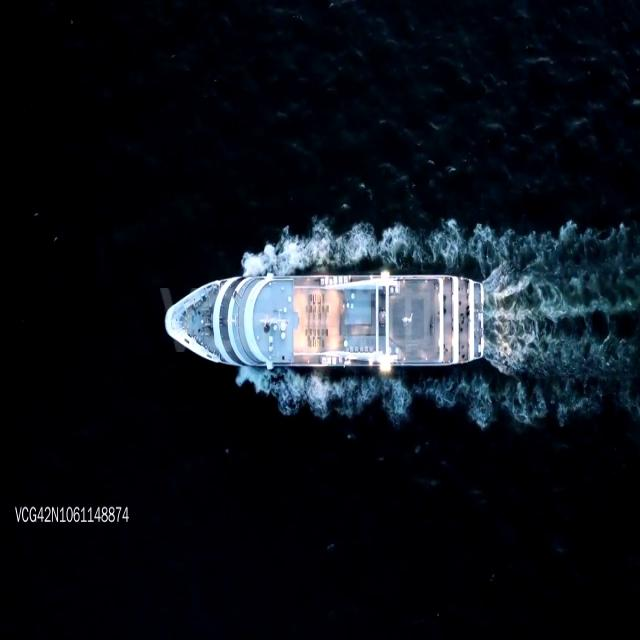passenger ship: (162, 268, 483, 373)
